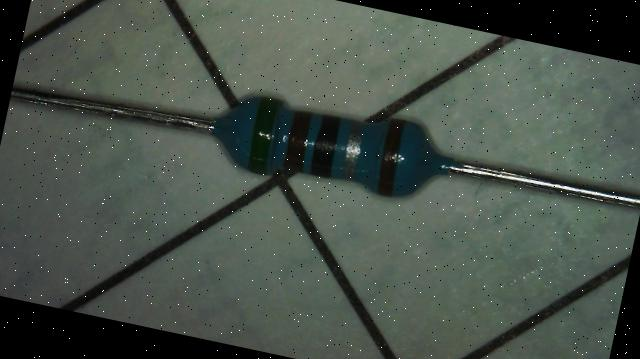black: (309, 114, 342, 178)
brown: (374, 118, 408, 198), (282, 108, 314, 173)
green: (244, 96, 284, 174)
resistor: (198, 68, 455, 221)
silver: (339, 119, 367, 181)
